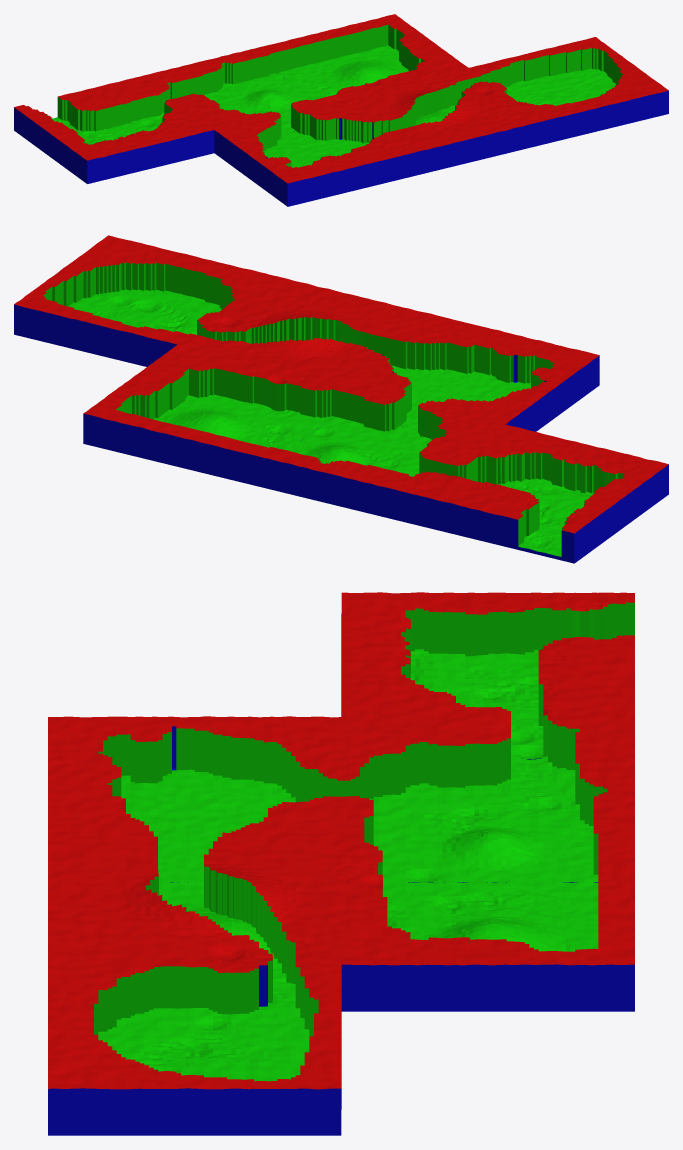
The model's file is Forest Dungeon_map_borders.obj.
3 renders of one model, top to bottom at view 1: azimuth 30°, elevation 25°; view 2: azimuth 150°, elevation 25°; view 3: azimuth 270°, elevation 25°, orthographic. The views are drawn at different scales.
Parts seen in each view (by area): view 1: Cube.001_No, Cube.001_Pathable, Cube.001_misc; view 2: Cube.001_No, Cube.001_Pathable, Cube.001_misc; view 3: Cube.001_No, Cube.001_Pathable, Cube.001_misc.
Part boxes in pixels (x1=…): Cube.001_No: x1=14, y1=14, x2=668, y2=183; Cube.001_Pathable: x1=46, y1=24, x2=623, y2=167; Cube.001_misc: x1=14, y1=77, x2=668, y2=206; Cube.001_No: x1=14, y1=235, x2=668, y2=533; Cube.001_Pathable: x1=43, y1=262, x2=624, y2=556; Cube.001_misc: x1=14, y1=304, x2=668, y2=563; Cube.001_No: x1=48, y1=592, x2=634, y2=1089; Cube.001_Pathable: x1=94, y1=602, x2=634, y2=1081; Cube.001_misc: x1=48, y1=614, x2=634, y2=1135.
Bounding box in the file's own units: 4000 × 214 × 2000.
